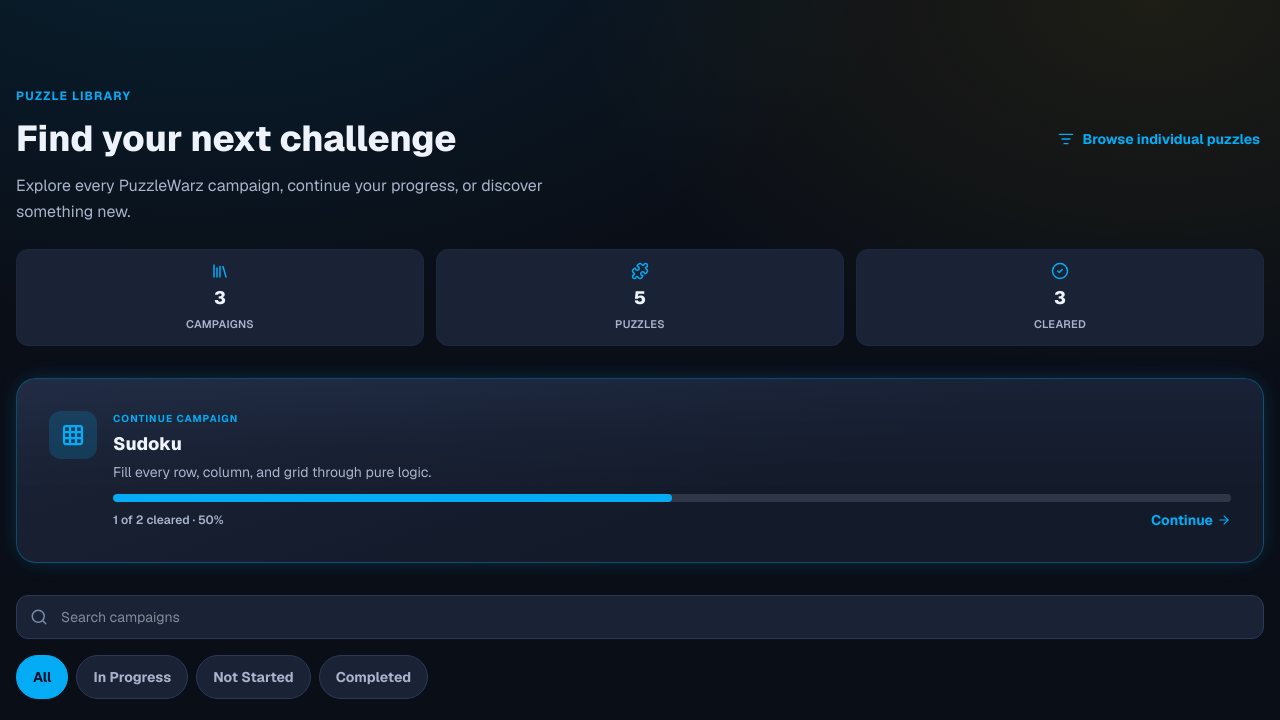
it: Puzzle Library hub › search and filtering › updates the visible result count as filters change
This screenshot has width=1280, height=720.
Click the button "Completed" at coordinates (373, 676), box [319,654,428,698]
(page scrolled)
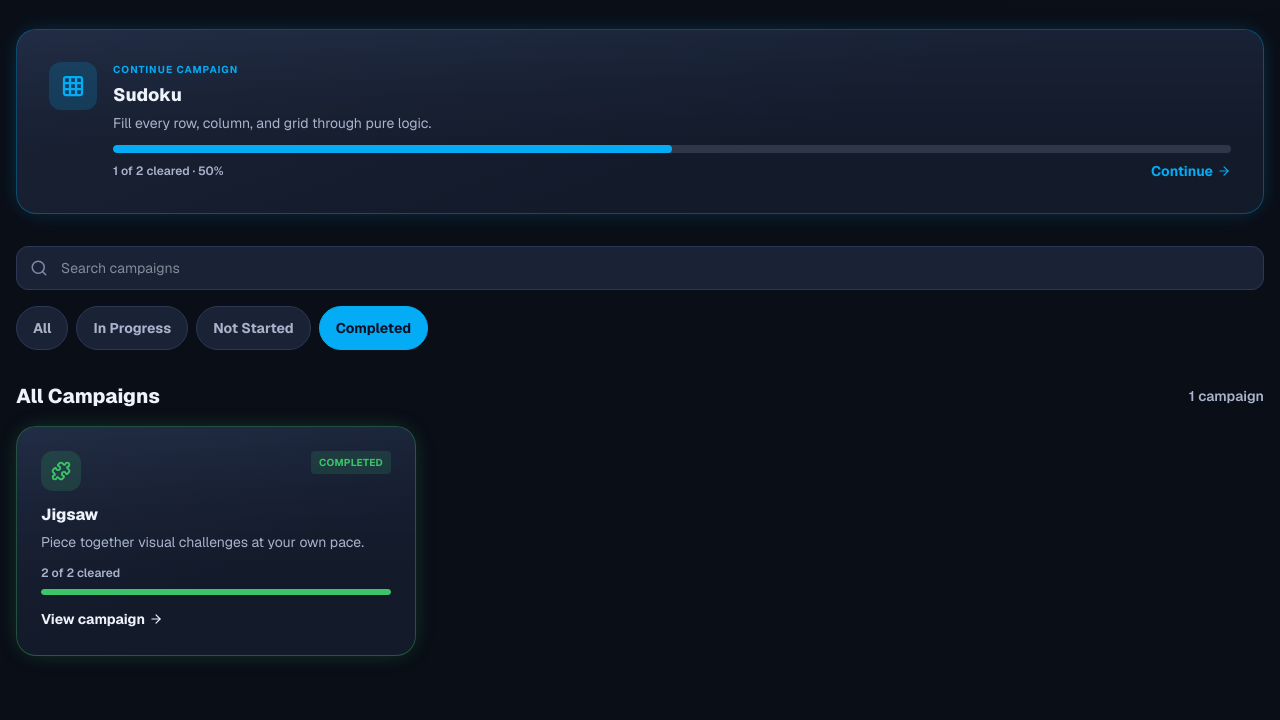
Expected: the text "1 campaign" is shown, [1189,386,1264,406]
